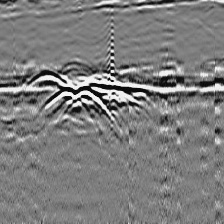cavities: (24, 69, 150, 121)
